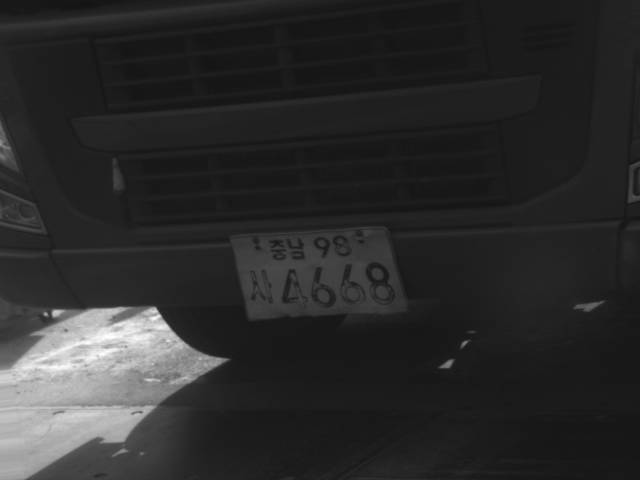car: (1, 1, 639, 360)
plate: (228, 221, 411, 324)
